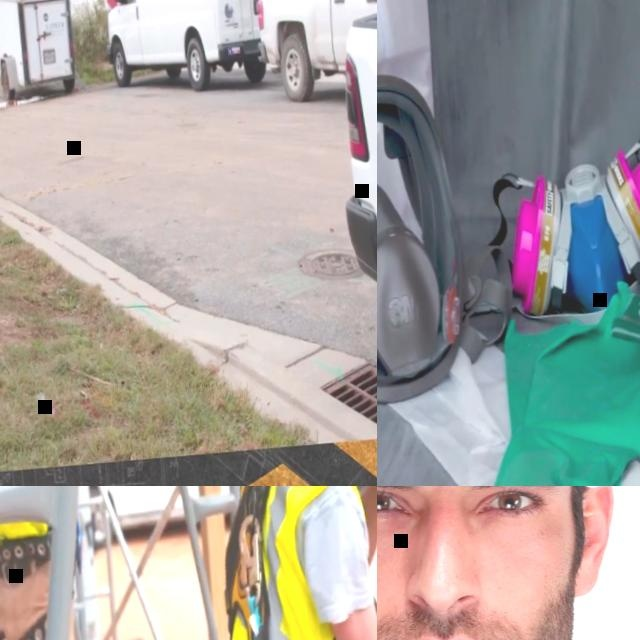Mask: (377, 65, 474, 409), (504, 144, 640, 319)
NO-Mask: (377, 591, 582, 640)
Person: (377, 486, 640, 640), (172, 486, 377, 640), (0, 486, 172, 640)
Safety Vest: (180, 486, 377, 640)
vehicle: (324, 0, 377, 438), (95, 0, 280, 97), (71, 486, 289, 553), (248, 0, 377, 105)
